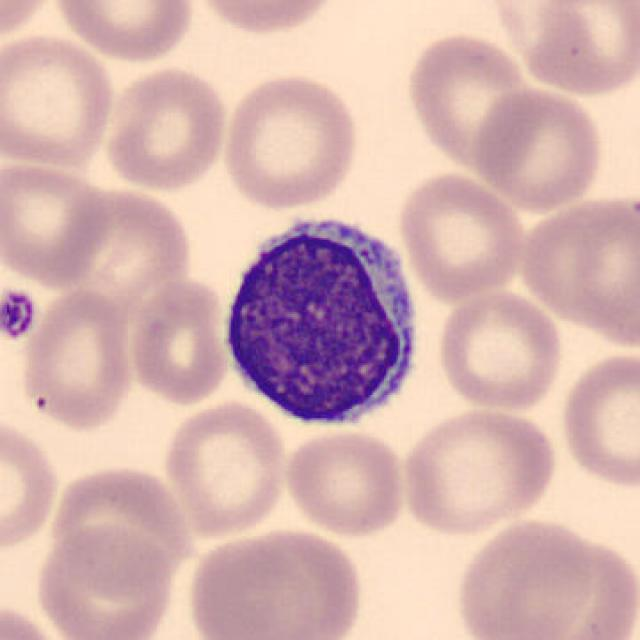Lymphocyte: (215, 204, 425, 436)
Platelets: (0, 287, 39, 342)
RBC: (396, 403, 562, 538), (182, 525, 364, 640), (218, 68, 362, 212), (400, 28, 537, 178), (452, 515, 612, 640), (36, 182, 196, 305), (516, 189, 638, 349), (44, 460, 196, 587), (160, 398, 290, 540), (16, 284, 139, 434), (393, 168, 528, 304), (471, 83, 606, 213), (32, 522, 178, 640), (101, 63, 231, 194), (0, 30, 119, 171), (434, 288, 565, 414), (0, 157, 116, 289), (281, 425, 411, 539), (126, 275, 231, 407), (514, 0, 640, 99), (556, 347, 638, 492), (49, 0, 197, 63), (0, 411, 62, 555), (190, 0, 345, 37), (0, 597, 69, 640), (0, 0, 60, 44)
